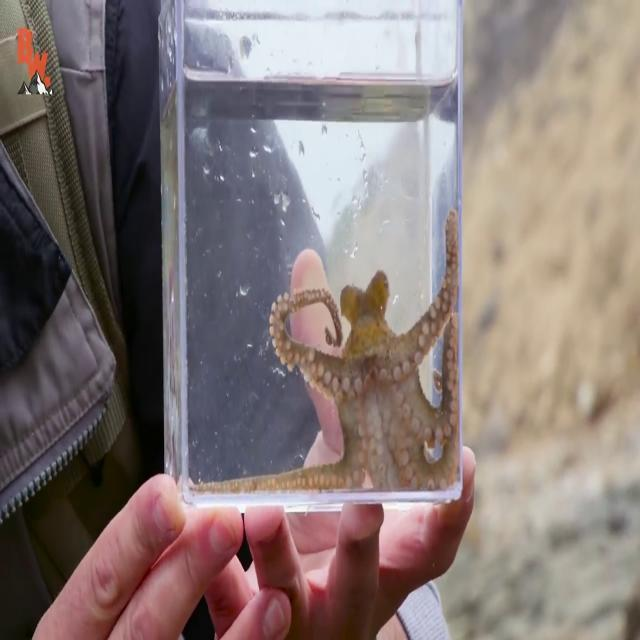octopus: (185, 194, 462, 493)
